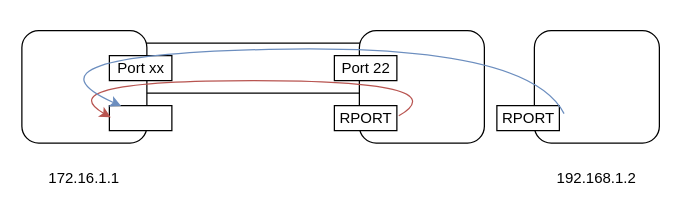
This 681x210 diagram has some shape labels left out. Each missing label, with the box of its shape:
domain.tld 192.168.1.1: (358, 29, 484, 143)
LPORT: (108, 104, 172, 131)
SSH tunnel: (133, 42, 372, 93)
